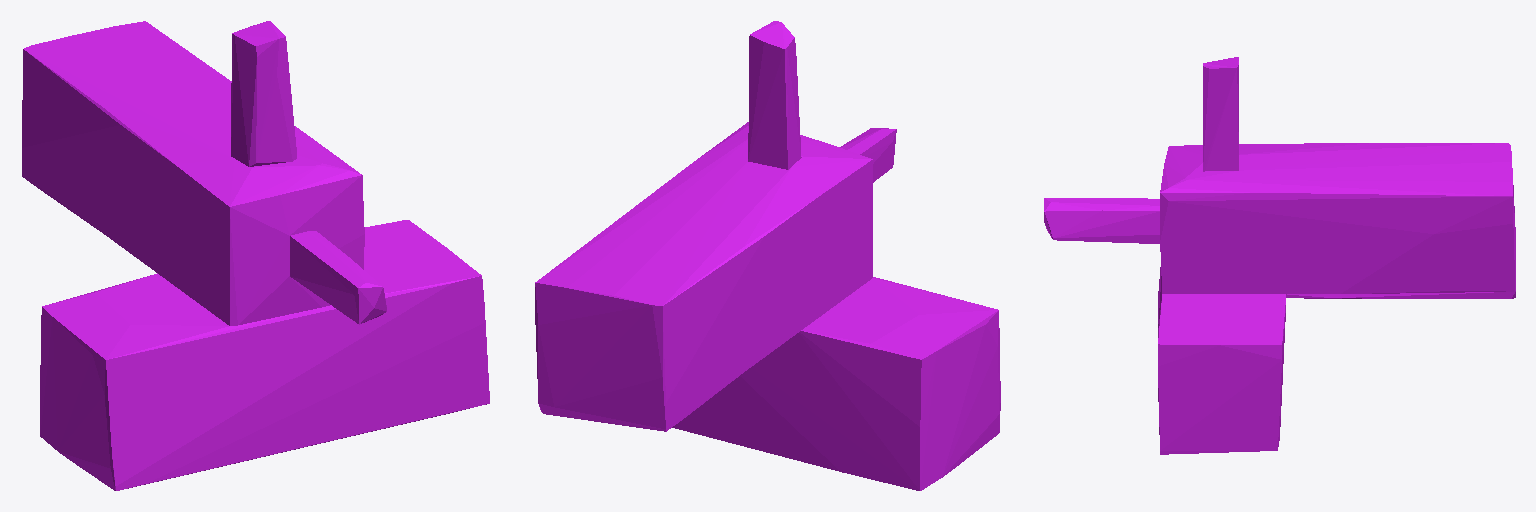
robot.urdf — blob063:
<robot name="blob063">
  <link name="random_obj_063">
    <contact>
      <lateral_friction value="1.0"/>
      <rolling_friction value="0.0"/>
      <inertia_scaling value="3.0"/>
      <contact_cfm value="0.0"/>
      <contact_erp value="1.0"/>
    </contact>
    <inertial>
      <origin rpy="0 0 0" xyz="0 0 0"/>
      <mass value="0.1"/>
      <inertia ixx="1" ixy="0" ixz="0" iyy="1" iyz="0" izz="0"/>
    </inertial>
    <visual>
      <origin rpy="0 0 0" xyz="0 0 0"/>
      <geometry>
        <mesh filename="063.obj" scale="0.015 0.015 0.015"/>
      </geometry>
      <material name="blockmat">
        <color rgba="0.88 0.20 0.98 1"/>
      </material>
    </visual>
    <collision>
      <origin rpy="0 0 0" xyz="0 0 0"/>
      <geometry>
        <mesh filename="063.obj" scale="0.015 0.015 0.015"/>
      </geometry>
    </collision>
  </link>
</robot>

--- What the picture shows (computed from the rendered views, not written in the file) ---
3 views of the same robot in one strip: view 1: azimuth 30°, elevation 25°; view 2: azimuth 150°, elevation 25°; view 3: azimuth 270°, elevation 25° (orthographic).
Model blob063 with 1 links and 0 joints (none), rooted at random_obj_063, posed all joints at 0.
Visible links, largest first — view 1: random_obj_063; view 2: random_obj_063; view 3: random_obj_063.
Link boxes in pixels (<box>): random_obj_063: <box>22,21,489,490</box>; random_obj_063: <box>535,21,1000,490</box>; random_obj_063: <box>1044,57,1515,454</box>.
Size in the robot's own frame: 0.093 by 0.1225 by 0.0924 metres.
Meshes: 1 distinct files referenced, 1 mesh visuals loaded (1 OBJ).